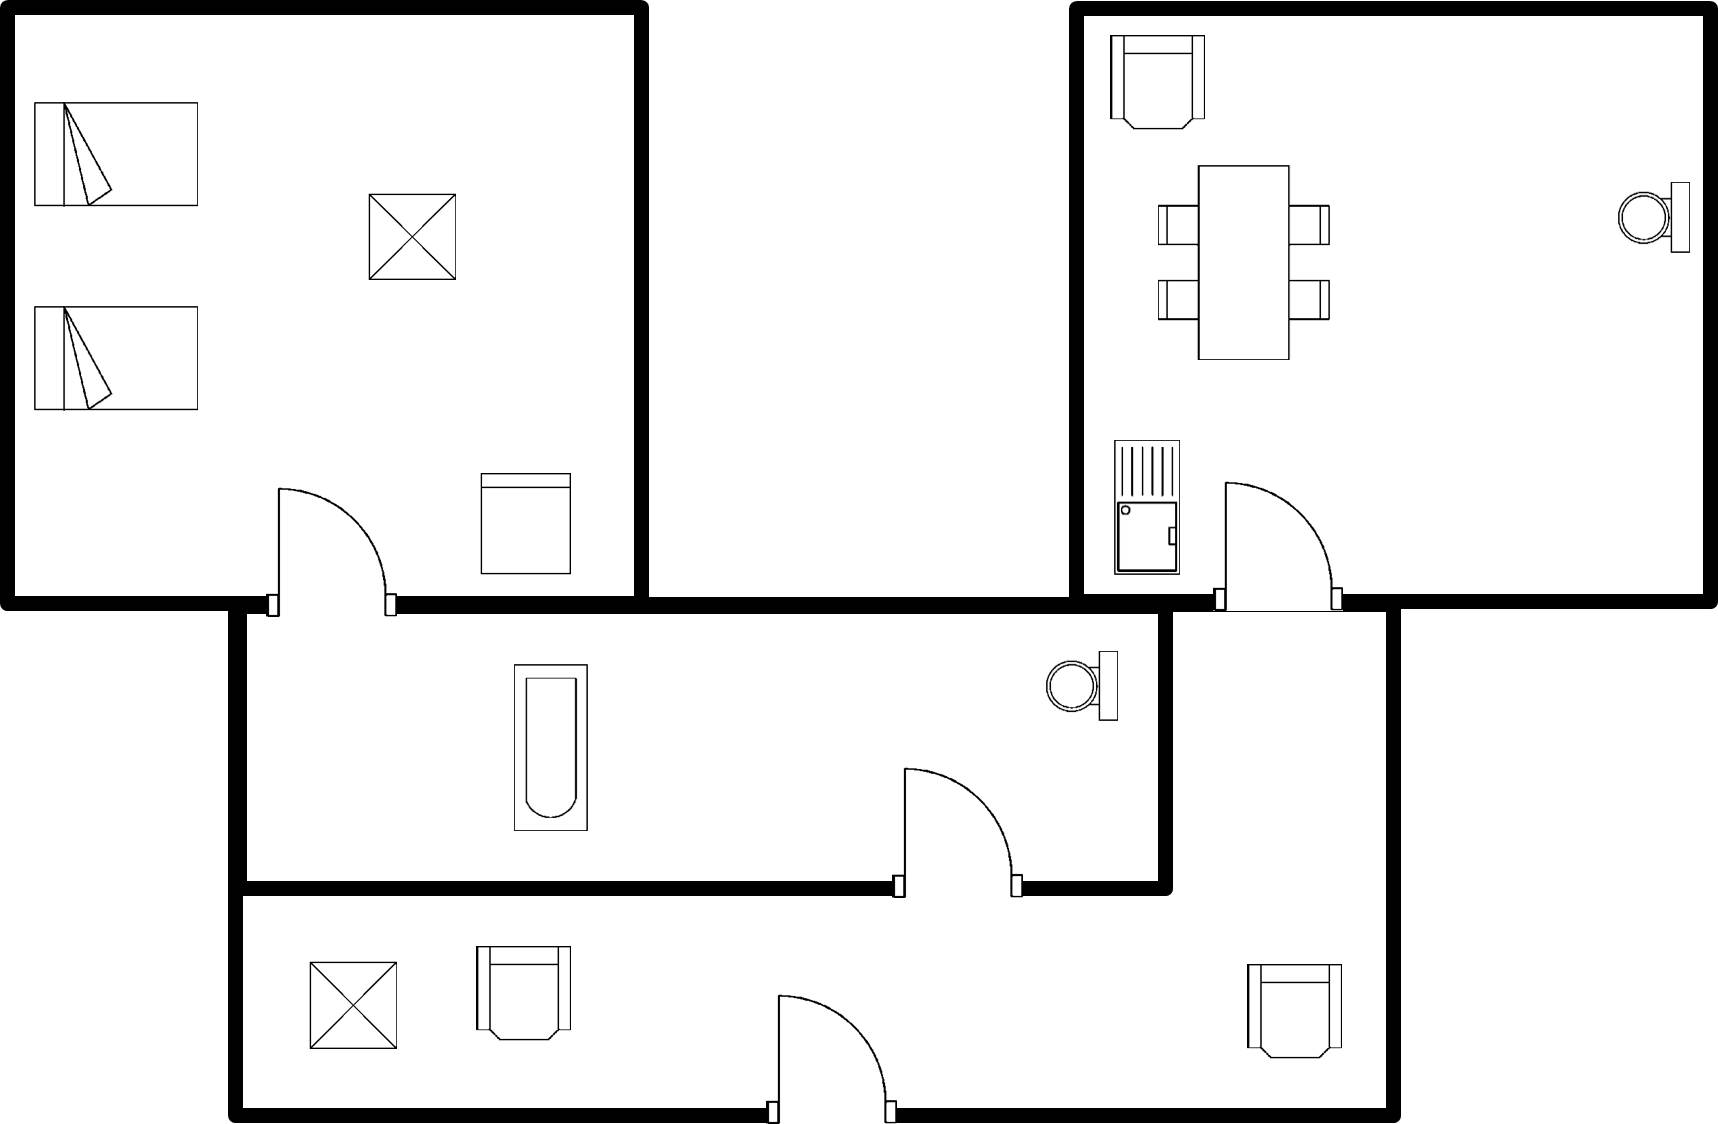armchair: (465, 936, 584, 1053), (1234, 955, 1353, 1066), (1099, 27, 1214, 138)
bed: (25, 294, 210, 421), (24, 93, 209, 217)
coffee_table: (298, 952, 407, 1062), (360, 187, 464, 291)
dining_table: (1148, 158, 1341, 371)
large_sink: (1607, 170, 1697, 262), (1038, 643, 1130, 732)
sink: (1102, 430, 1192, 581)
small_sofa: (471, 465, 581, 582)
tub: (503, 655, 598, 842)
